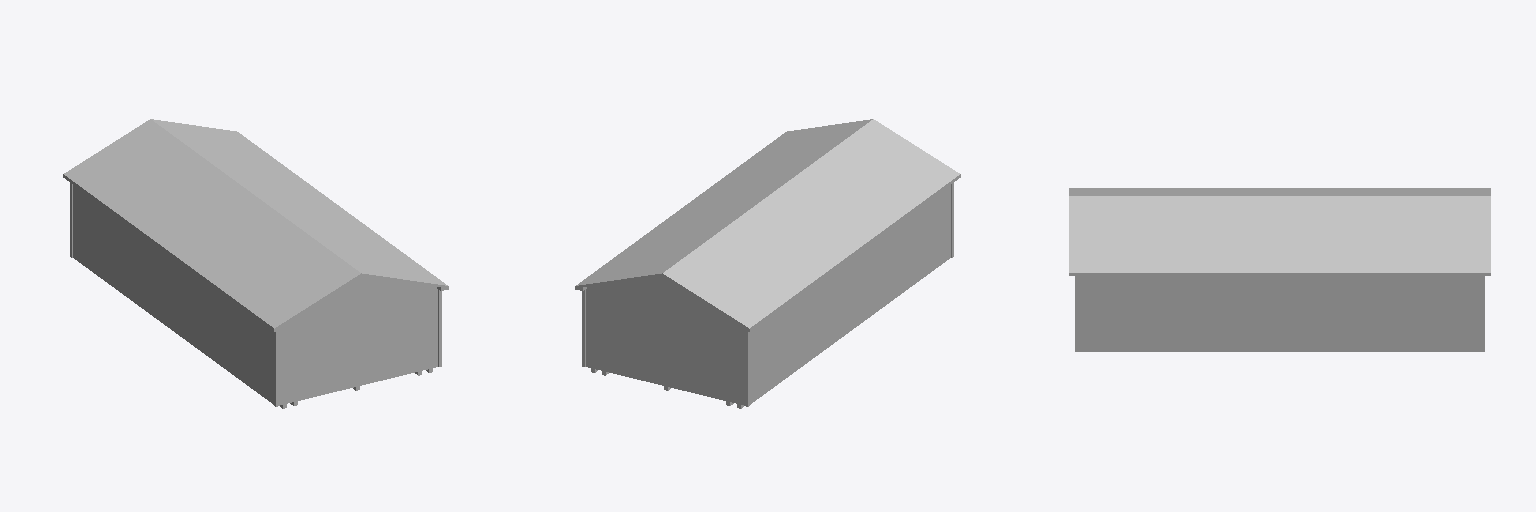
Rendered from Classic A-Frame_14x30.obj.
The picture shows the model from 3 angles: view 1: azimuth 30°, elevation 25°; view 2: azimuth 150°, elevation 25°; view 3: azimuth 270°, elevation 25°; orthographic projection.
Visible parts, largest first — view 1: Classic A-Frame_14x30.obj; view 2: Classic A-Frame_14x30.obj; view 3: Classic A-Frame_14x30.obj.
Part boxes in pixels (x1,y1,x2,y2): Classic A-Frame_14x30.obj: (63,119,448,408); Classic A-Frame_14x30.obj: (575,119,960,408); Classic A-Frame_14x30.obj: (1069,188,1490,351).
Size of the model in its own units: 4.5 by 2.96 by 9.45.